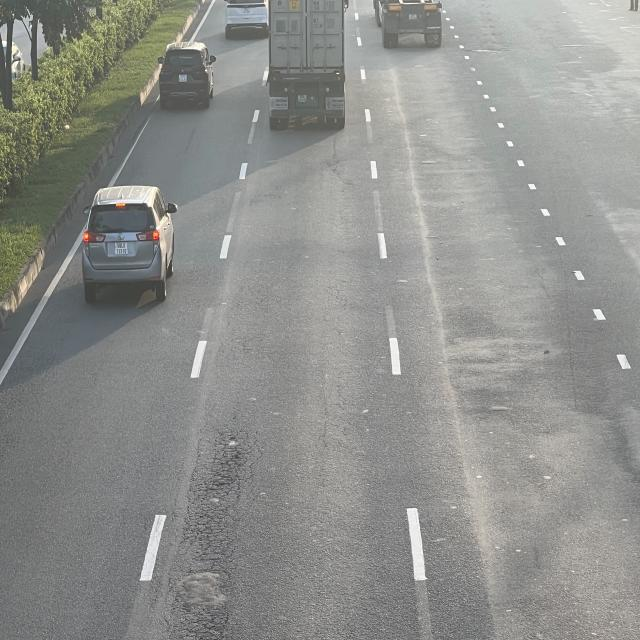car: (83, 184, 180, 301), (160, 41, 218, 108)
container: (267, 1, 347, 132)
